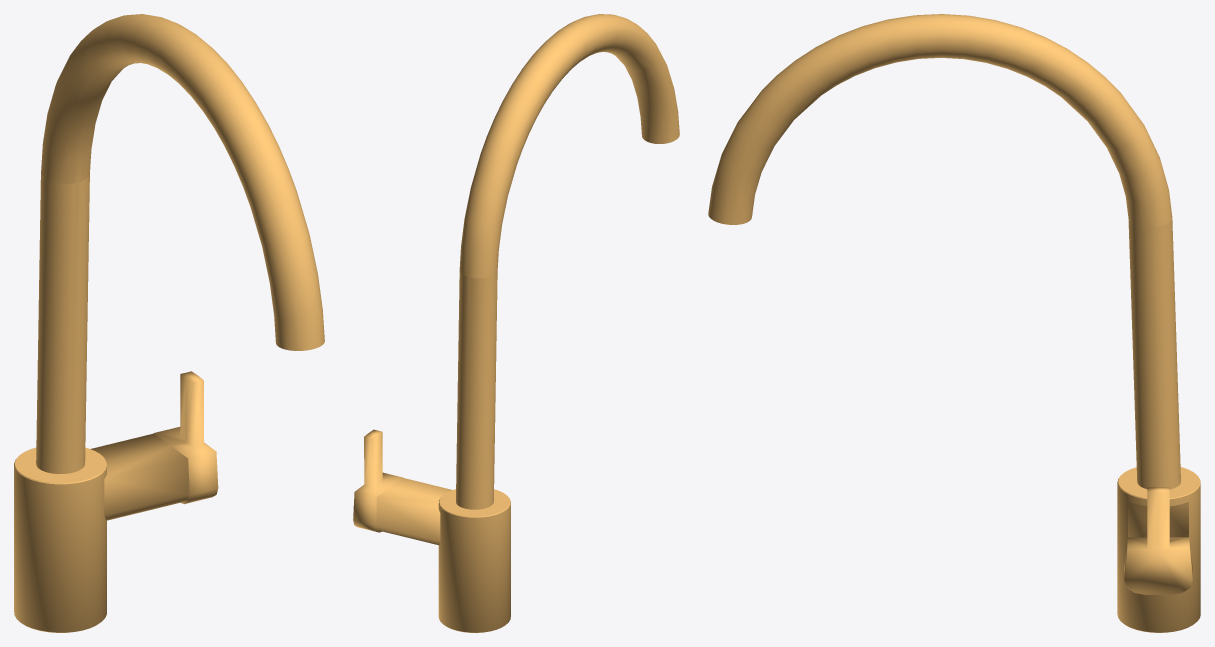
File: 2345_kitchen_faucet_AlignBrushedGold.gltf
The picture shows the model from 3 angles, left to right: view 1: azimuth 30°, elevation 25°; view 2: azimuth 150°, elevation 25°; view 3: azimuth 270°, elevation 25°; orthographic projection. The views are drawn at different scales.
Visible parts, largest first — view 1: Align Brushed Gold; view 2: Align Brushed Gold; view 3: Align Brushed Gold.
Boxes of the visible parts, box(x1,y1,x2,y2) form: Align Brushed Gold: box(14, 14, 324, 632); Align Brushed Gold: box(353, 14, 679, 632); Align Brushed Gold: box(708, 14, 1200, 632).
Size of the model in its own units: 0.131 by 0.47 by 0.3497.
